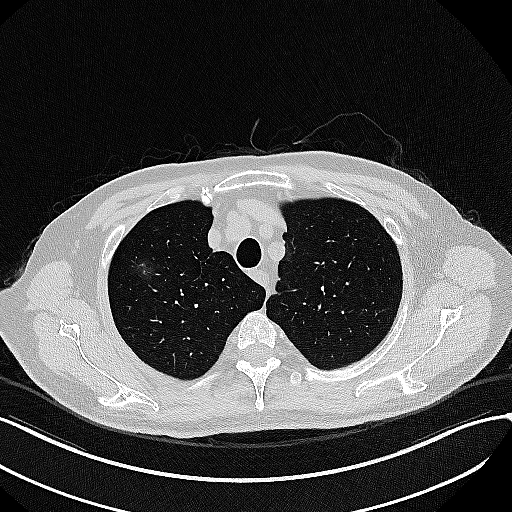nodule: (135, 261, 151, 276)
